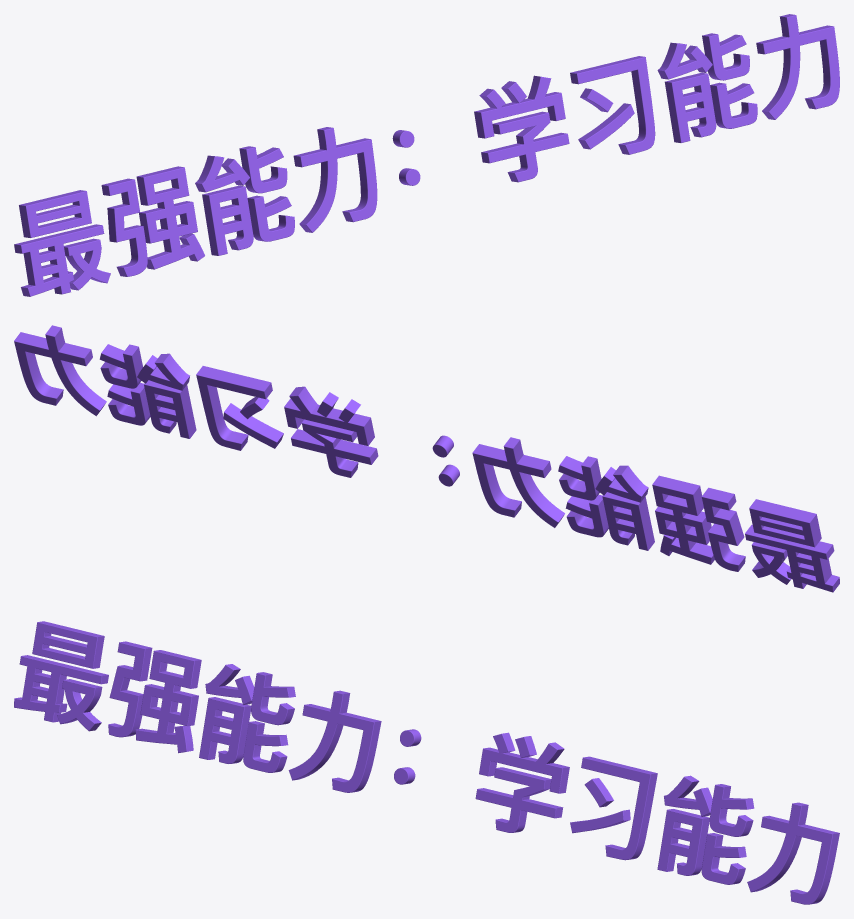
The model's file is Learningabilitymodel.glb.
3 renders of one model, top to bottom at view 1: azimuth 30°, elevation 25°; view 2: azimuth 150°, elevation 25°; view 3: azimuth 330°, elevation 25°, orthographic.
Visible parts, largest first — view 1: 最强能力：学习能力; view 2: 最强能力：学习能力; view 3: 最强能力：学习能力.
Boxes of the visible parts, bbox=[...] form: 最强能力：学习能力: bbox=[14, 14, 839, 296]; 最强能力：学习能力: bbox=[14, 325, 839, 592]; 最强能力：学习能力: bbox=[14, 621, 839, 904].
Bounding box in the file's own units: 25 × 2.65 × 1.19.
